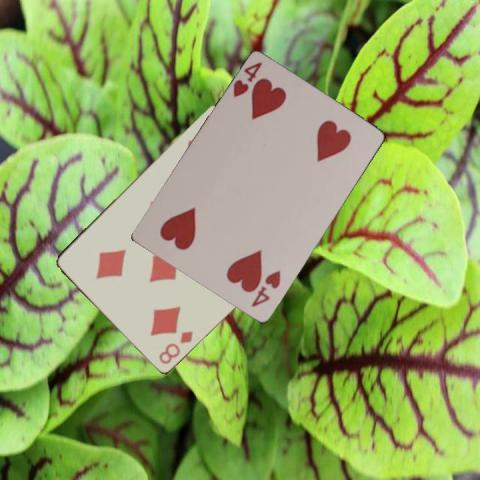4h: (248, 267, 283, 309), (230, 59, 264, 99)
8d: (156, 328, 195, 366)
